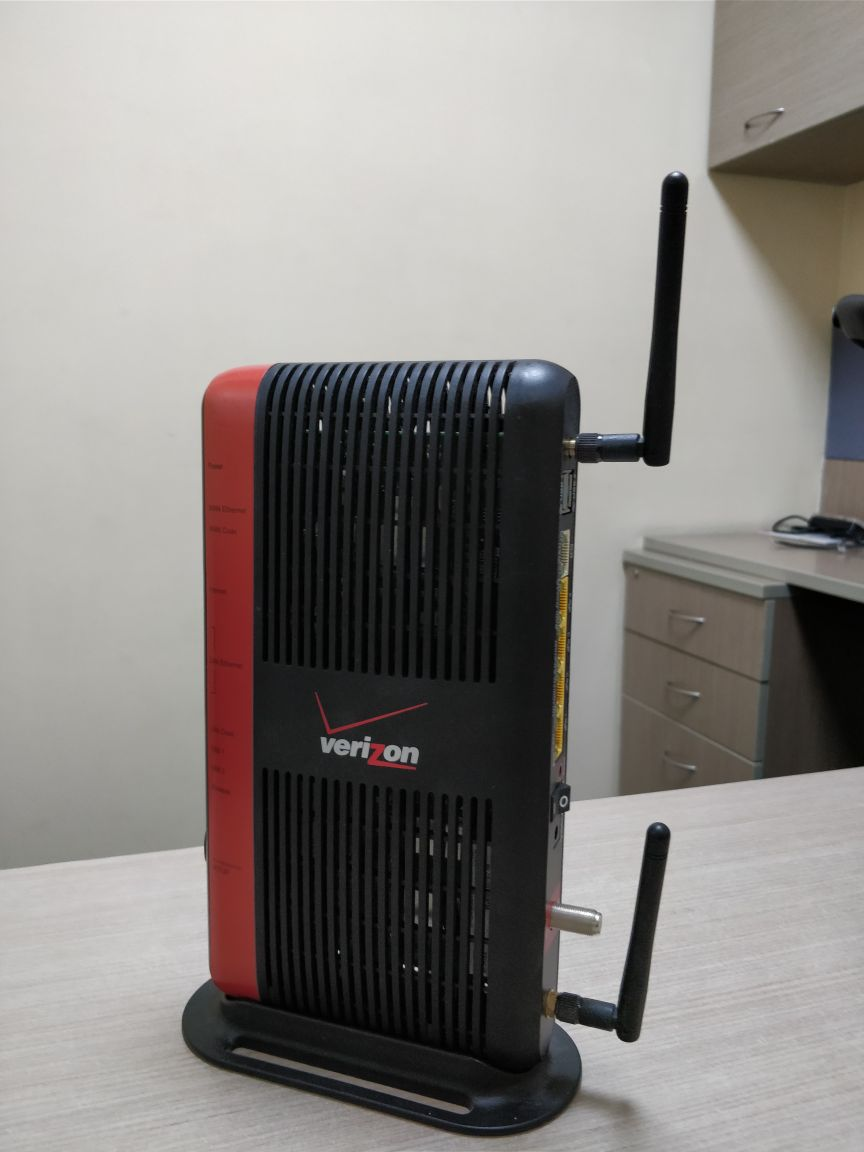Verizon Router: (153, 240, 765, 1152)
